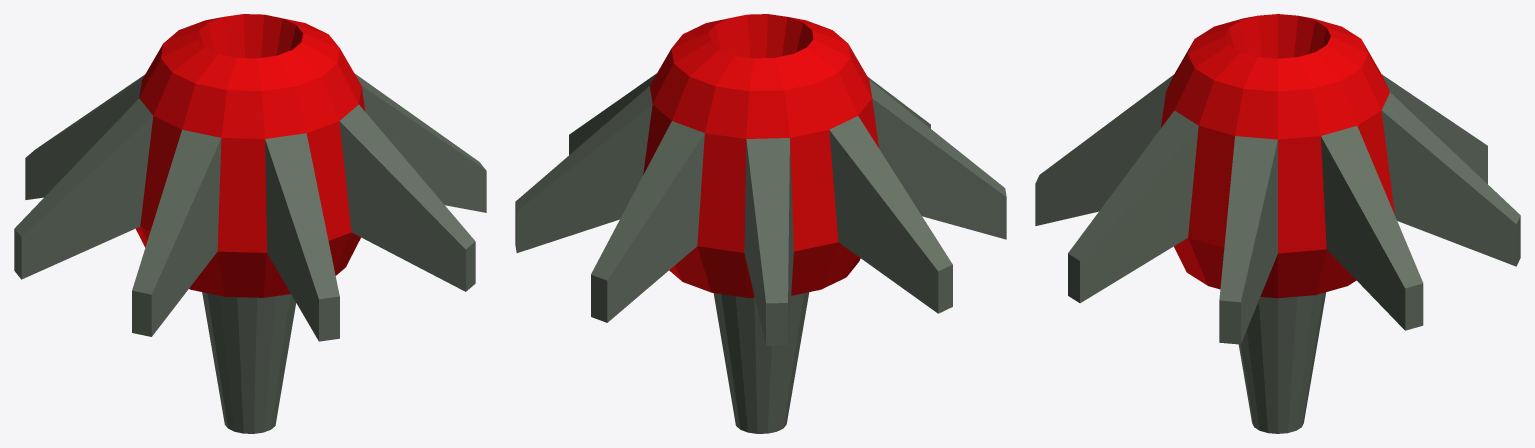
File: dronePlayer.fbx
The picture shows the model from 3 angles, left to right: view 1: azimuth 30°, elevation 25°; view 2: azimuth 150°, elevation 25°; view 3: azimuth 270°, elevation 25°; orthographic projection.
Visible parts, largest first — view 1: Sphere; view 2: Sphere; view 3: Sphere.
Part boxes in pixels (box(x1,y1,x2,y2)): Sphere: box(14, 14, 486, 433); Sphere: box(515, 14, 1006, 433); Sphere: box(1035, 14, 1520, 433).
Bounding box in the file's own units: 378 × 332 × 378.
